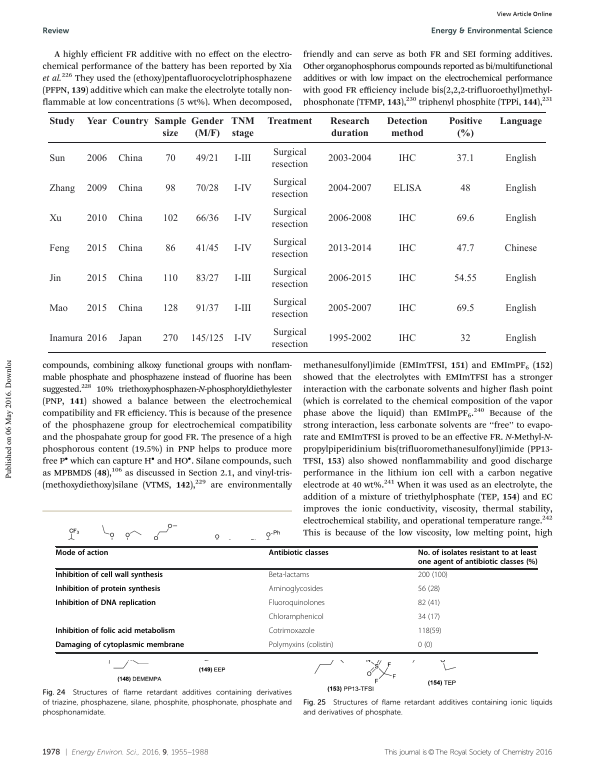borderless: (47, 111, 546, 352), (54, 545, 537, 652)
cell: (417, 549, 538, 567), (55, 641, 185, 651), (55, 627, 176, 637), (55, 571, 164, 581), (55, 585, 161, 595), (55, 599, 157, 609), (386, 117, 428, 140), (329, 117, 370, 140), (270, 177, 309, 201), (270, 148, 309, 171), (270, 207, 309, 230), (270, 237, 309, 260), (270, 267, 309, 290), (270, 297, 309, 320), (270, 327, 309, 350), (448, 117, 483, 140), (153, 117, 187, 140), (190, 117, 224, 140), (268, 641, 334, 651), (268, 599, 326, 609), (230, 117, 255, 140), (268, 585, 324, 595), (268, 613, 324, 623), (268, 549, 330, 558), (327, 183, 372, 195), (266, 117, 313, 128), (498, 117, 543, 128), (327, 154, 372, 165), (327, 213, 372, 224), (327, 243, 372, 254), (327, 273, 372, 284), (327, 303, 372, 314), (327, 333, 372, 344), (55, 549, 109, 558), (268, 627, 315, 637), (268, 571, 310, 581), (111, 117, 149, 128), (504, 183, 537, 195), (503, 243, 538, 254), (48, 333, 83, 344), (190, 333, 224, 344), (504, 154, 537, 165), (504, 213, 537, 224), (504, 273, 537, 284), (504, 303, 537, 314), (504, 333, 537, 344), (392, 183, 422, 195), (48, 183, 76, 195), (117, 183, 143, 195), (417, 571, 448, 581), (48, 117, 75, 128), (195, 183, 219, 195), (117, 154, 143, 165), (117, 213, 143, 224), (117, 243, 143, 254), (117, 273, 143, 284), (117, 303, 143, 314), (195, 154, 219, 165), (86, 183, 108, 195), (195, 213, 219, 224), (195, 243, 219, 254), (195, 273, 219, 284), (453, 273, 477, 284), (195, 303, 219, 314), (118, 333, 142, 344), (417, 627, 442, 637), (86, 117, 108, 128), (85, 154, 107, 165), (85, 213, 107, 224), (48, 243, 70, 254), (86, 243, 108, 254), (86, 273, 108, 284), (86, 303, 108, 314), (86, 333, 108, 344), (417, 585, 441, 595), (417, 599, 441, 609), (417, 613, 441, 623), (233, 183, 252, 195), (397, 154, 417, 165), (455, 154, 475, 165), (397, 213, 417, 224), (455, 213, 475, 224), (397, 243, 417, 254), (455, 243, 475, 254), (397, 273, 417, 284), (48, 303, 68, 314), (397, 303, 417, 314), (455, 303, 475, 314), (397, 333, 417, 344), (233, 154, 252, 165), (233, 213, 252, 224), (233, 243, 252, 254), (233, 273, 252, 284), (233, 303, 252, 314), (233, 333, 252, 344), (48, 154, 66, 165), (162, 213, 179, 224), (162, 303, 179, 314), (162, 333, 179, 344), (162, 273, 178, 284), (417, 641, 433, 651), (48, 213, 62, 224), (48, 273, 62, 284), (164, 183, 176, 195), (459, 183, 471, 195), (164, 154, 176, 165), (164, 243, 176, 254), (459, 333, 471, 344)
